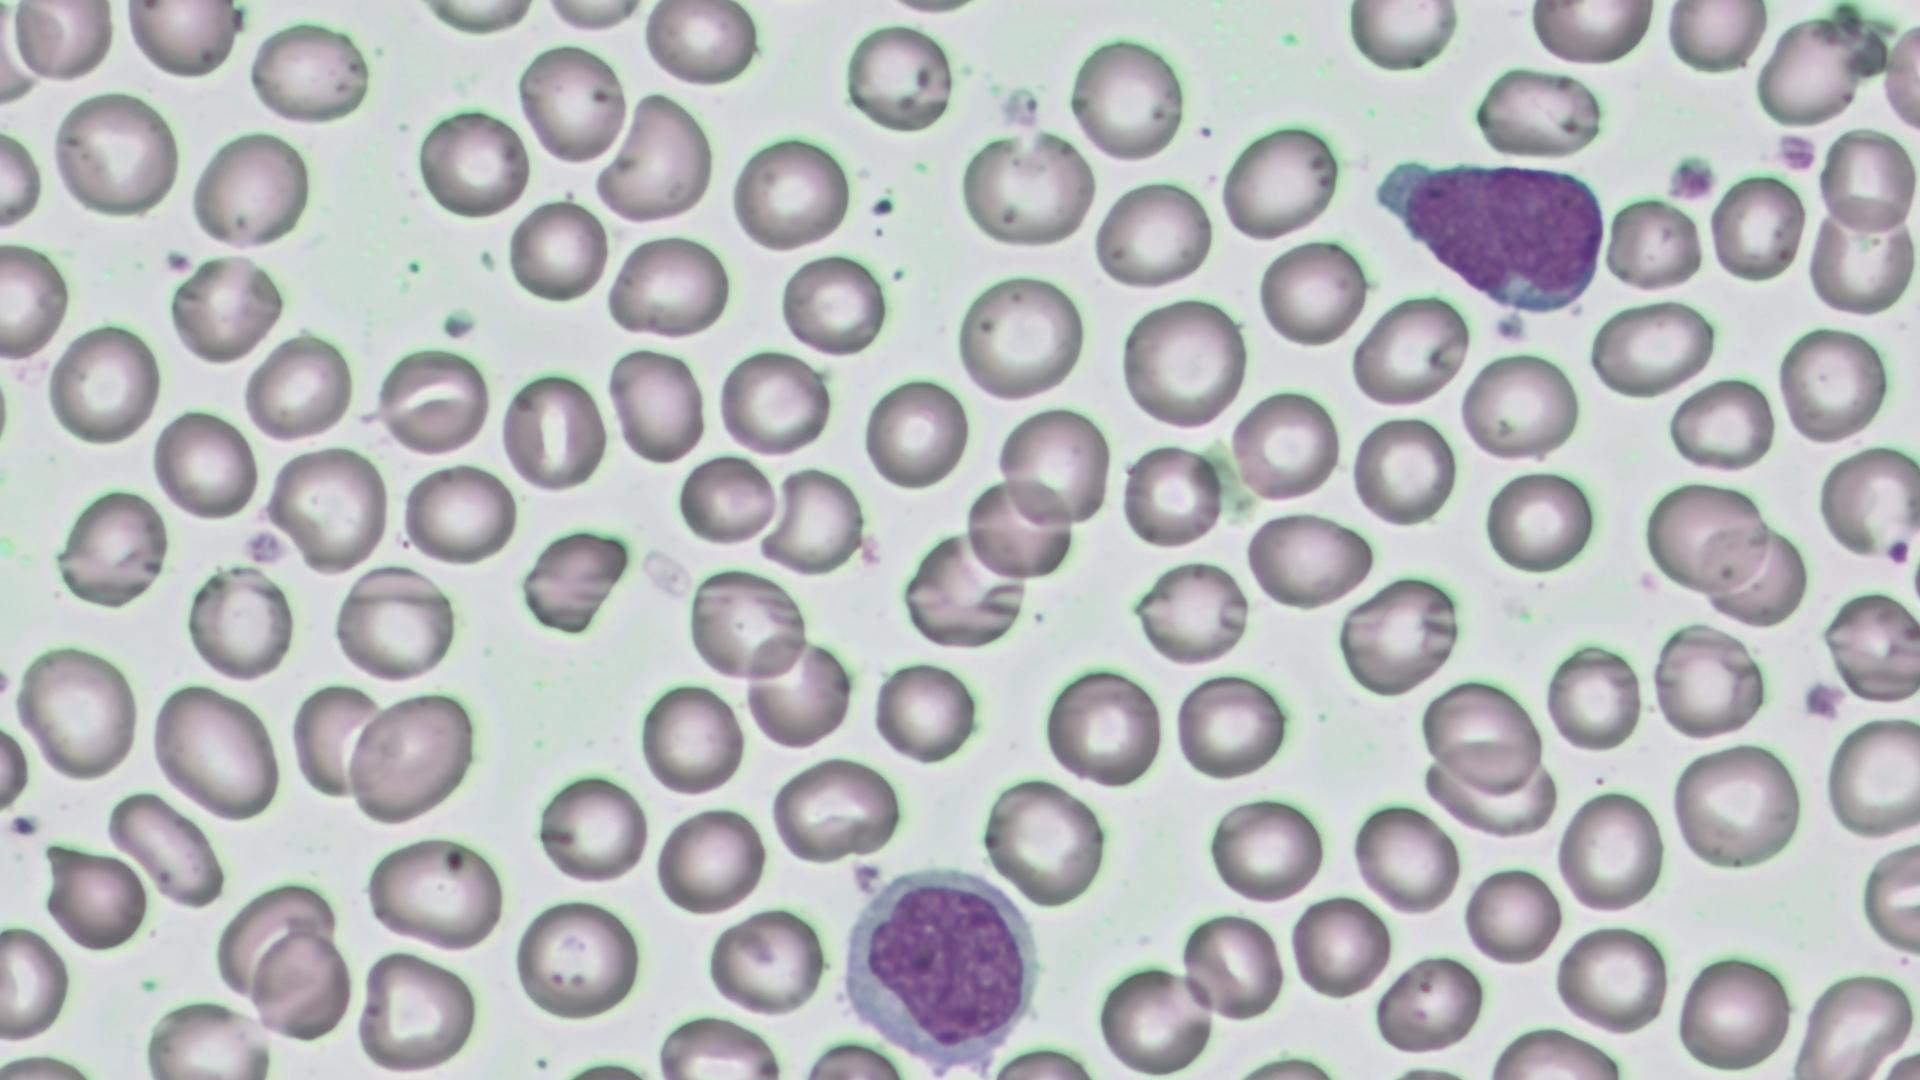Platelets: (1664, 150, 1720, 205), (3, 809, 39, 842), (1821, 0, 1863, 18)
RBC: (147, 680, 285, 823), (14, 637, 142, 787), (1118, 291, 1250, 435), (343, 688, 480, 826), (591, 85, 717, 231), (359, 832, 508, 953), (1670, 740, 1804, 874), (954, 269, 1086, 402), (49, 88, 180, 222), (510, 894, 642, 1024), (957, 129, 1096, 252), (1066, 29, 1189, 166), (981, 776, 1108, 908), (188, 123, 314, 256), (264, 444, 390, 574), (1217, 116, 1343, 245), (354, 946, 480, 1074), (900, 528, 1030, 652), (1334, 572, 1461, 698), (728, 130, 854, 257), (1674, 946, 1797, 1076), (995, 402, 1117, 533), (46, 316, 163, 449), (1347, 289, 1472, 413), (685, 563, 810, 686), (1042, 664, 1165, 789), (1642, 478, 1768, 600), (1456, 346, 1582, 468), (1416, 674, 1545, 793), (514, 38, 630, 169), (1556, 785, 1670, 917), (603, 229, 733, 344), (243, 15, 375, 128), (412, 102, 533, 224), (1092, 173, 1215, 293), (1774, 321, 1892, 446), (769, 754, 902, 864), (55, 483, 169, 611), (703, 904, 829, 1019), (533, 766, 651, 888), (331, 568, 454, 685), (1790, 965, 1916, 1079), (1096, 957, 1216, 1076), (1349, 795, 1463, 920), (499, 367, 609, 496), (1552, 920, 1672, 1038), (1204, 791, 1327, 905), (1228, 384, 1343, 505), (1652, 620, 1766, 742), (1469, 63, 1610, 161), (1254, 235, 1371, 353), (651, 802, 768, 920), (1130, 555, 1250, 670), (742, 630, 855, 751), (184, 560, 296, 682), (841, 18, 956, 136), (1752, 11, 1866, 130), (1417, 743, 1557, 839), (164, 252, 284, 364), (715, 346, 835, 458), (1244, 507, 1374, 610), (376, 344, 494, 457), (1584, 297, 1716, 398), (1176, 907, 1287, 1027), (637, 678, 746, 800), (862, 372, 970, 495), (1804, 200, 1916, 318), (1348, 409, 1459, 528), (1483, 465, 1598, 578), (518, 523, 632, 636), (241, 332, 355, 445), (1822, 710, 1918, 843), (1370, 949, 1487, 1058), (1815, 442, 1917, 567), (1173, 672, 1287, 783), (151, 407, 261, 522), (603, 344, 706, 466), (401, 459, 517, 567), (777, 249, 890, 359), (868, 656, 981, 766), (1118, 439, 1226, 554), (249, 927, 356, 1042), (760, 464, 867, 578), (43, 838, 149, 952), (1706, 168, 1808, 286), (1542, 638, 1644, 755), (288, 680, 385, 802), (1288, 890, 1392, 1003), (138, 992, 273, 1079), (1818, 122, 1917, 240), (964, 474, 1075, 579), (1822, 586, 1918, 706), (504, 196, 606, 308), (1461, 862, 1563, 968), (1665, 375, 1776, 471), (1707, 523, 1806, 628), (642, 3, 761, 90), (1604, 193, 1706, 294), (672, 452, 782, 545), (120, 2, 241, 84), (0, 236, 74, 367), (8, 0, 119, 87), (0, 919, 74, 1043), (1342, 0, 1462, 75), (1526, 1, 1659, 67), (1857, 830, 1920, 963), (1659, 3, 1767, 79), (0, 114, 44, 238), (1878, 13, 1920, 138), (408, 0, 542, 37), (534, 0, 651, 33)
WBC: (826, 862, 1050, 1069), (1382, 152, 1608, 314)
